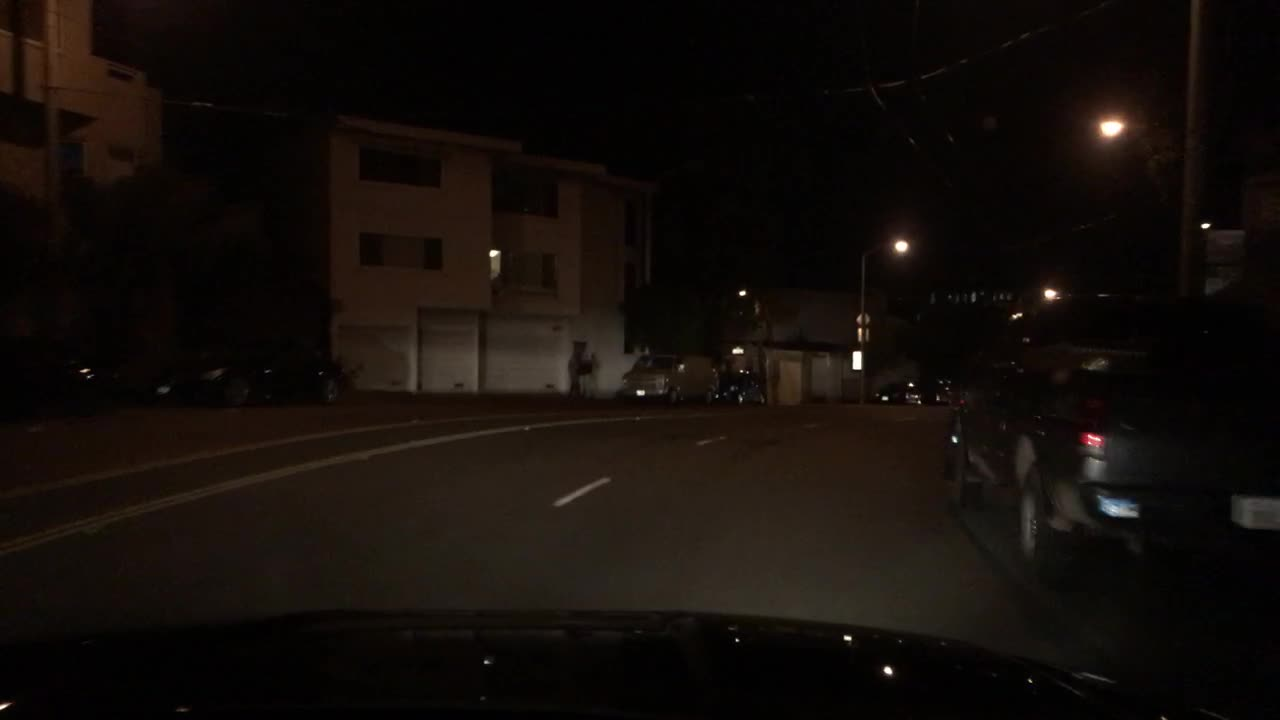car: (939, 286, 1278, 571), (198, 353, 344, 407), (0, 341, 101, 406), (618, 351, 722, 407), (713, 370, 767, 409), (870, 377, 925, 407), (920, 379, 955, 407)
person: (565, 348, 585, 400), (582, 348, 601, 398)
traffic sign: (854, 322, 868, 346), (856, 309, 871, 325)
